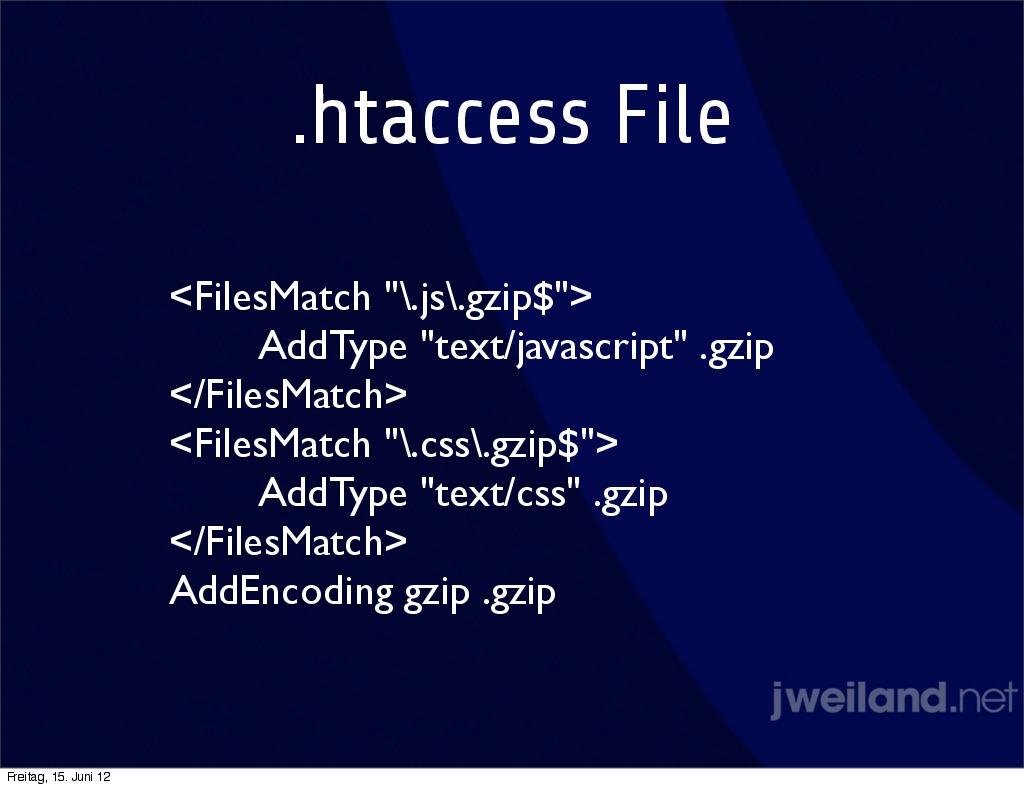paragraph: (113, 230, 854, 621)
subtitle: (751, 645, 1024, 737)
title: (248, 32, 763, 192)
